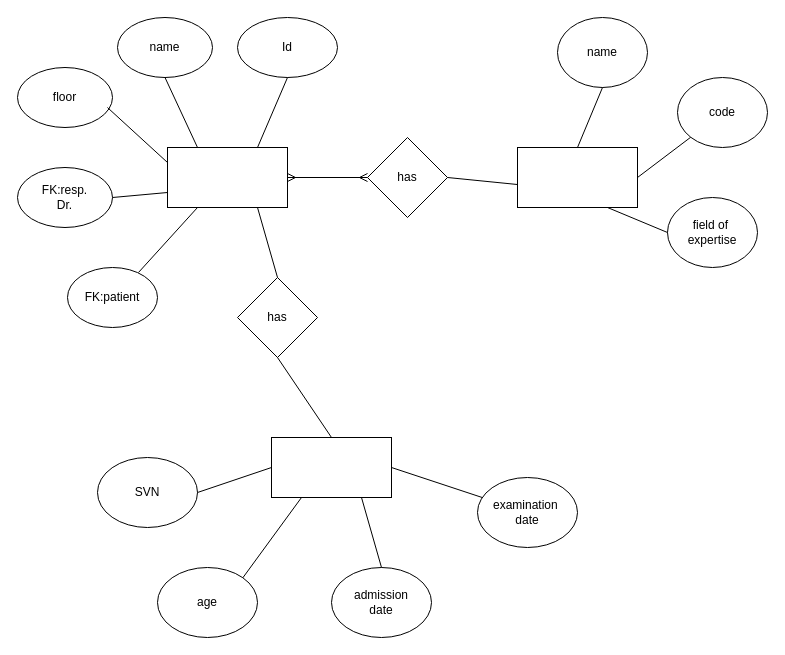
The diagram is 785 pixels wide and 655 high, and some of its shapes have lost their labels. The shapes that lost their labels are listed below. From the top down, each one's centre as x and y in pixels, then its label:
At [227,177]: "Unit".
At [577,177]: "Doctor".
At [331,467]: "patient".
